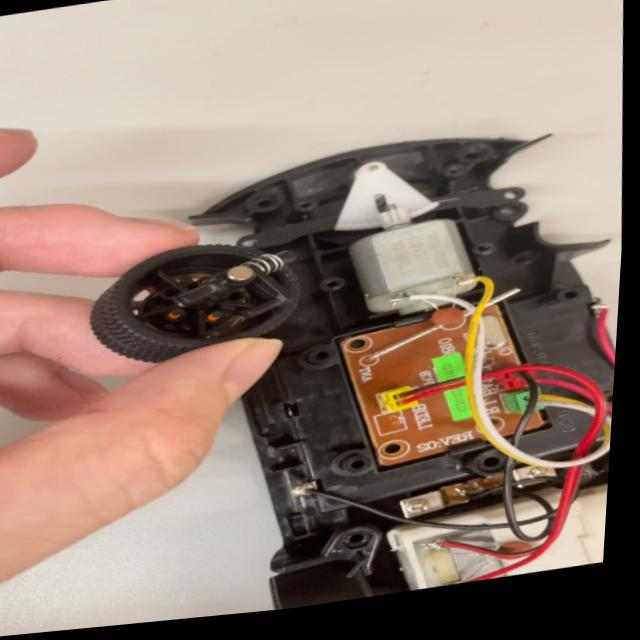motor: (344, 185, 492, 325)
wheel: (78, 218, 309, 381)
